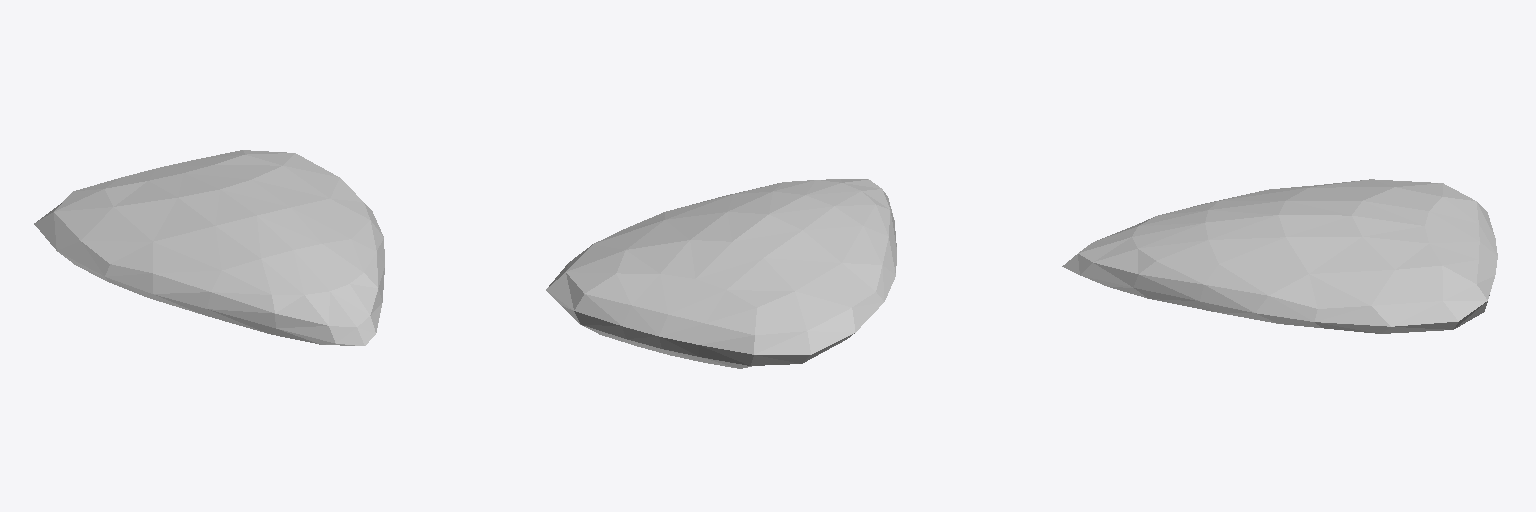
Rendered from Entourage-Shield.obj.
3 renders of one model, left to right at view 1: azimuth 30°, elevation 25°; view 2: azimuth 150°, elevation 25°; view 3: azimuth 270°, elevation 25°, orthographic.
Visible parts, largest first — view 1: octotoad3_default_def; view 2: octotoad3_default_def; view 3: octotoad3_default_def.
Part boxes in pixels (x1,y1,x2,y2): octotoad3_default_def: (34,150,384,345); octotoad3_default_def: (546,179,896,368); octotoad3_default_def: (1062,179,1497,333).
Size of the model in its own units: 7.19 by 1.97 by 9.46.